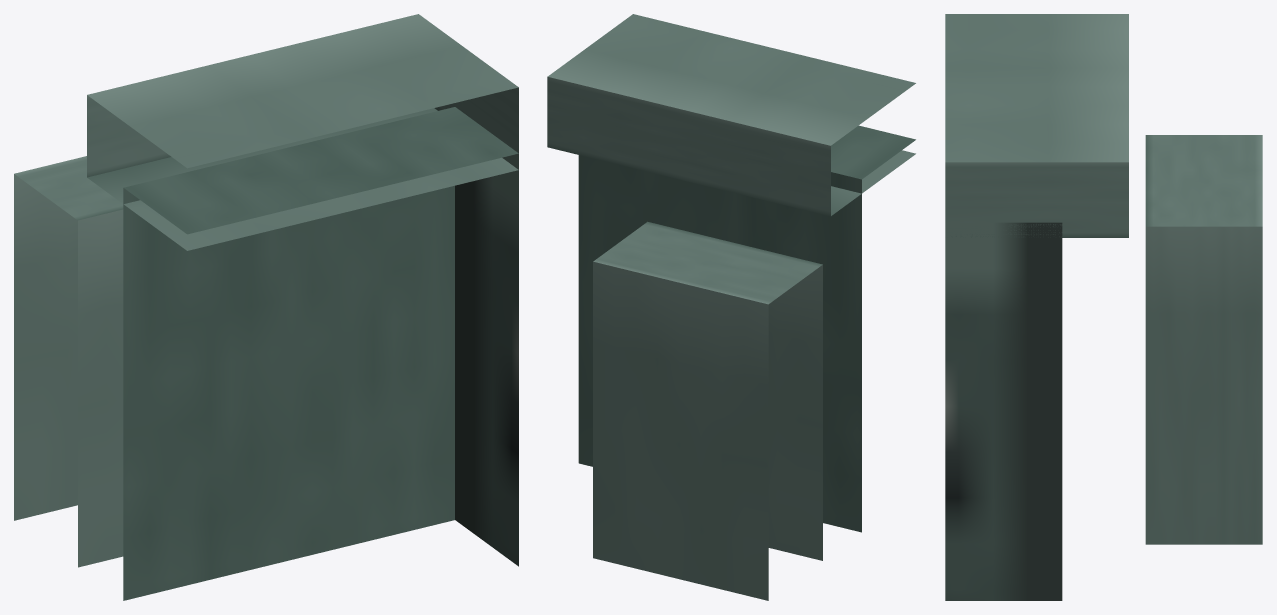
The model's file is cell_209.obj.
3 renders of one model, left to right at view 1: azimuth 30°, elevation 25°; view 2: azimuth 150°, elevation 25°; view 3: azimuth 270°, elevation 25°, orthographic. The views are drawn at different scales.
Size of the model in its own units: 0.42 by 0.58 by 0.38.
